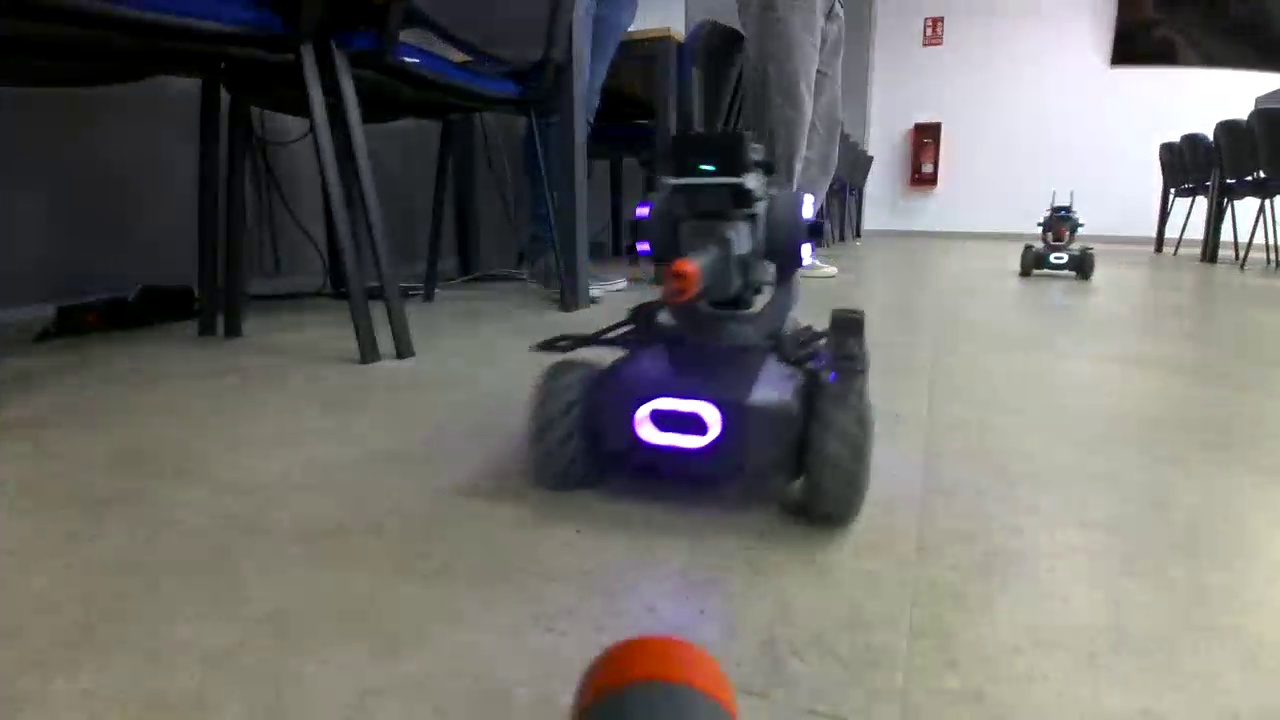robot: (525, 125, 875, 525), (1018, 190, 1095, 280)
